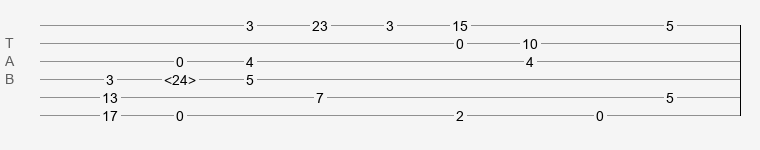0: (176, 54, 184, 64), (176, 108, 184, 118), (456, 36, 464, 46), (596, 108, 604, 118)
10: (522, 36, 538, 46)
13: (102, 90, 118, 100)
15: (452, 18, 468, 28)
17: (102, 108, 118, 118)
2: (456, 108, 464, 118)
23: (312, 18, 328, 28)
3: (106, 72, 114, 82), (246, 18, 254, 28), (386, 18, 394, 28)
4: (246, 54, 254, 64), (526, 54, 534, 64)
5: (246, 72, 254, 82), (666, 18, 674, 28), (666, 90, 674, 100)
7: (316, 90, 324, 100)
harmonic: (164, 72, 196, 82)
